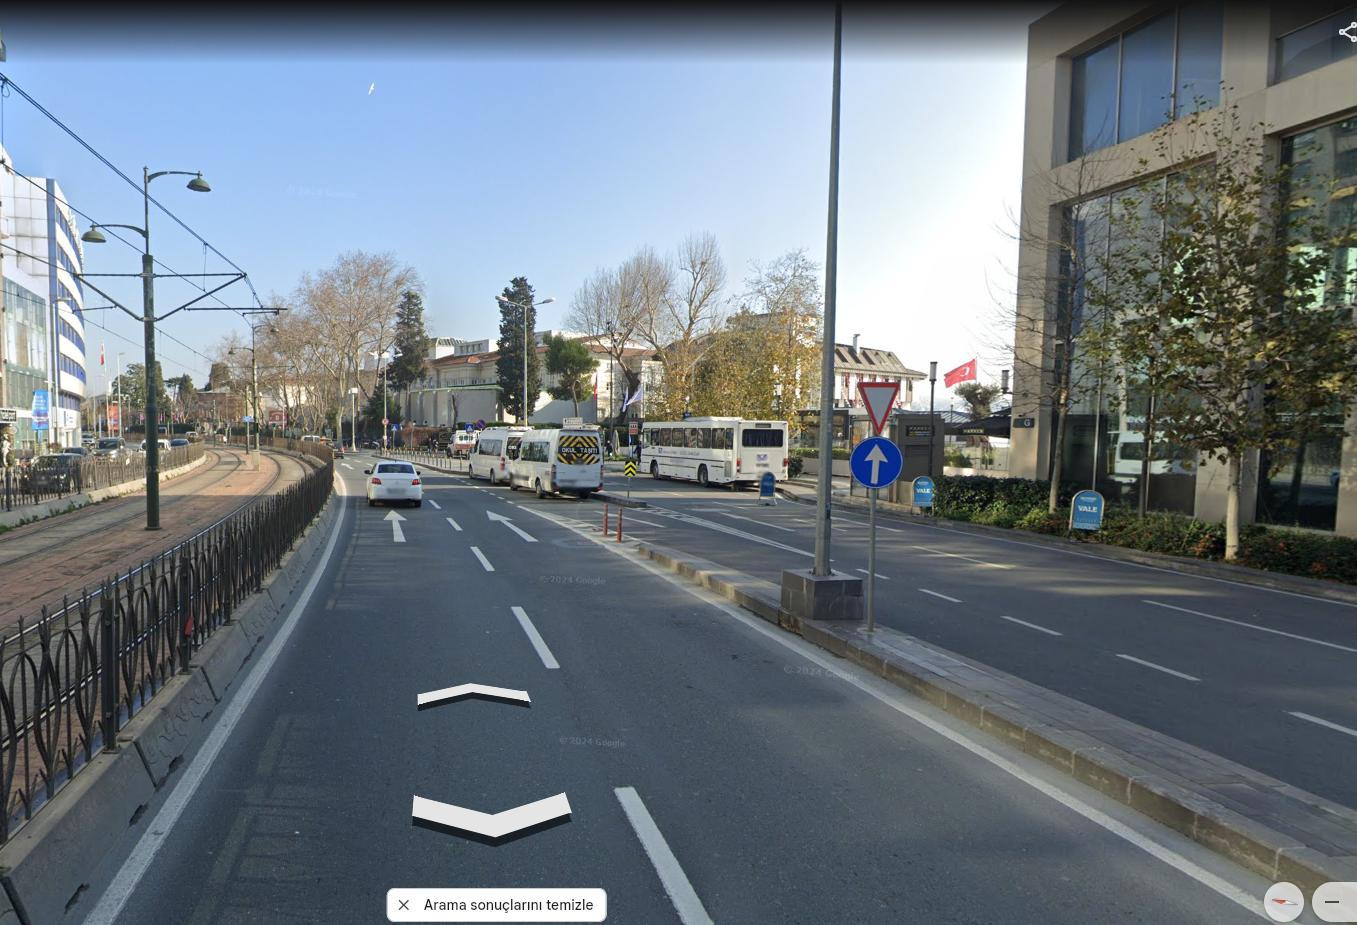forward: (850, 439, 902, 487)
